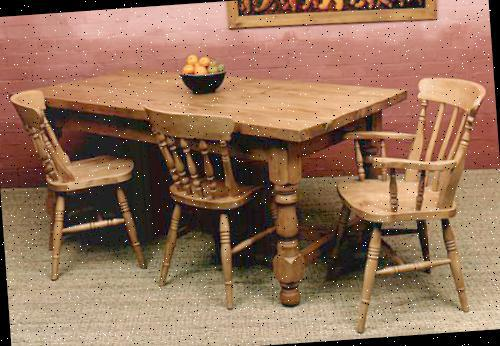Mesa: (17, 50, 426, 330)
Silla: (310, 67, 499, 333), (144, 97, 298, 318), (8, 80, 153, 285)
